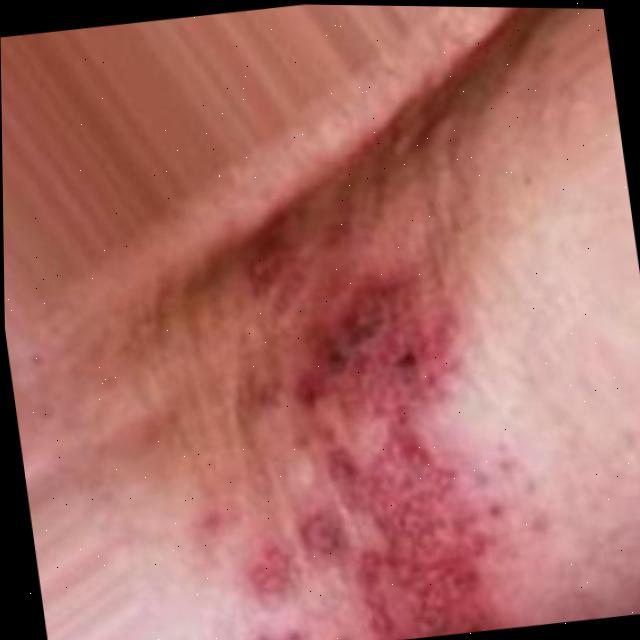Shingles: (221, 269, 501, 640)
